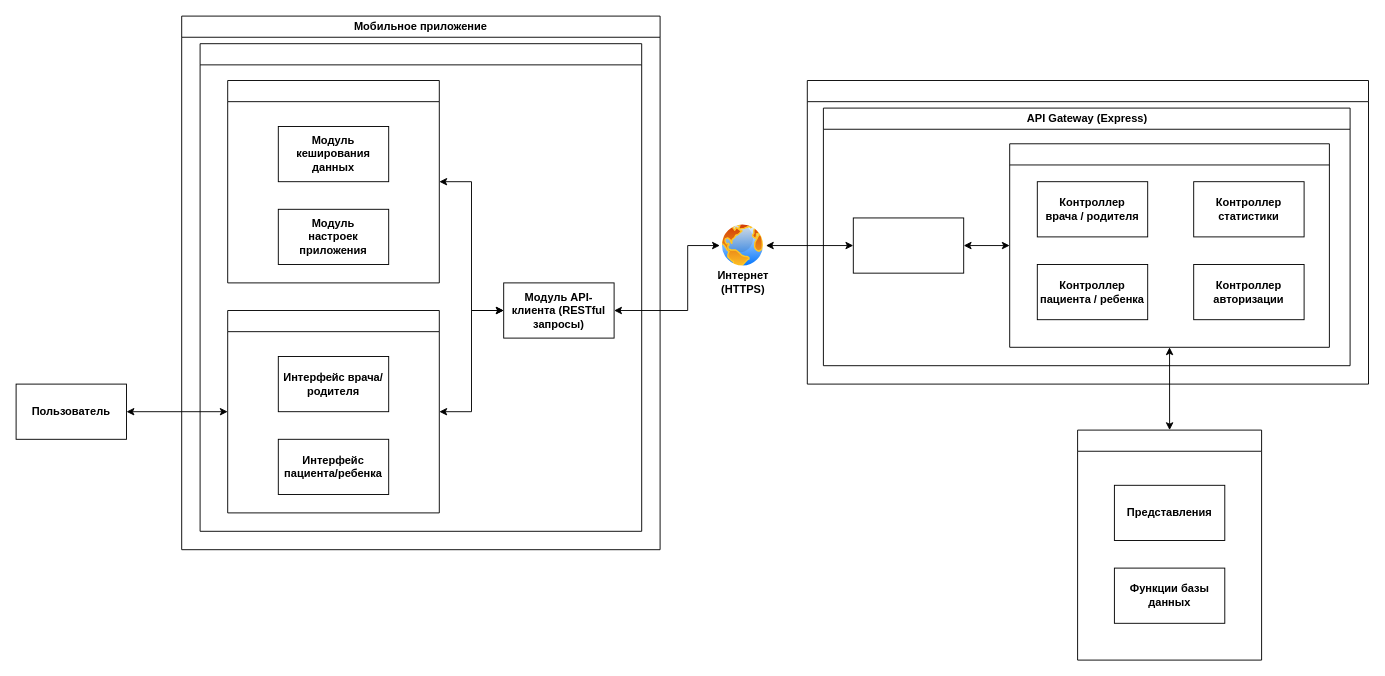
Some shapes in this 1385 by 676 pixel diagram are drawn without their labels. The box of each missing label's shape, as (x1, y1, x2, y2) in pixels:
React Native: (199, 43, 642, 531)
База данных (PostgreSQL): (1077, 429, 1262, 660)
Интерфейс пользователя: (227, 310, 439, 513)
Контроллеры (Controller): (1009, 143, 1329, 347)
Локальное хранилище: (227, 80, 439, 283)
Маршруты (Routes): (852, 217, 964, 273)
Сервер: (806, 80, 1368, 384)
